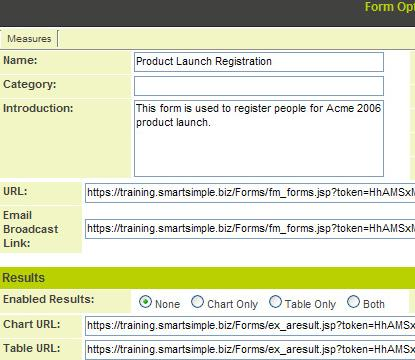field: (130, 98, 385, 180), (130, 50, 385, 75), (129, 74, 386, 95)
field_with_label: (1, 97, 387, 183), (1, 73, 388, 98), (3, 48, 387, 73)
radio: (189, 293, 208, 314), (137, 291, 154, 312), (268, 292, 284, 313), (345, 292, 360, 313)
radio_with_label: (187, 290, 260, 315), (264, 291, 334, 315), (135, 289, 181, 313), (342, 290, 385, 315)
